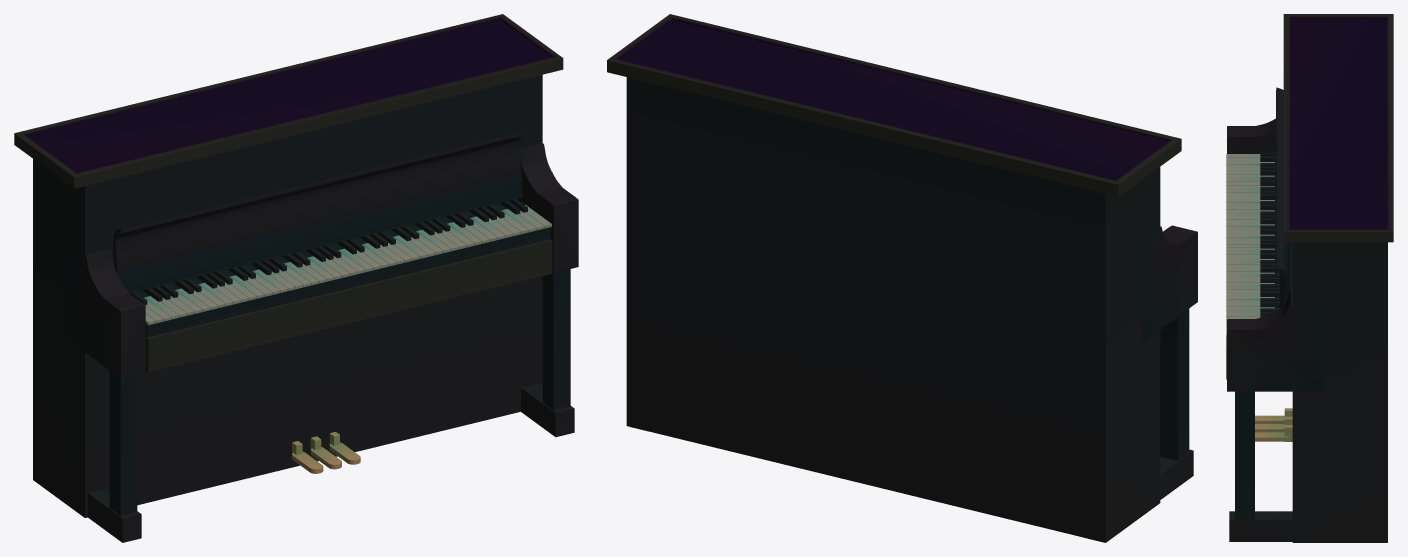
3 renders of one model, left to right at view 1: azimuth 30°, elevation 25°; view 2: azimuth 150°, elevation 25°; view 3: azimuth 270°, elevation 25°, orthographic. The views are drawn at different scales.
Visible parts, largest first — view 1: case, lid, curved_front, keyboard_apron, curved_cheek.001, keybed, curved_cheek, front_support.003, front_support, foot.003, foot; view 2: case, lid, curved_cheek.001, front_support.003, foot.003; view 3: case, lid, curved_cheek, front_support, curved_front, foot, curved_cheek.001, pedal.003, pedal.001, pedal.002.
Boxes of the visible parts, x1=… form: case: x1=33, y1=74, x2=542, y2=517; lid: x1=14, y1=14, x2=563, y2=188; curved_front: x1=113, y1=130, x2=524, y2=292; keyboard_apron: x1=145, y1=239, x2=552, y2=372; curved_cheek.001: x1=68, y1=243, x2=145, y2=378; keybed: x1=137, y1=203, x2=550, y2=337; curved_cheek: x1=518, y1=143, x2=578, y2=272; front_support.003: x1=109, y1=371, x2=137, y2=516; front_support: x1=542, y1=269, x2=570, y2=410; foot.003: x1=88, y1=489, x2=141, y2=542; foot: x1=521, y1=383, x2=574, y2=437; case: x1=626, y1=77, x2=1160, y2=542; lid: x1=607, y1=14, x2=1181, y2=196; curved_cheek.001: x1=1142, y1=225, x2=1197, y2=341; front_support.003: x1=1160, y1=308, x2=1189, y2=460; foot.003: x1=1160, y1=449, x2=1193, y2=499; case: x1=1292, y1=242, x2=1387, y2=542; lid: x1=1283, y1=14, x2=1393, y2=242; curved_cheek: x1=1227, y1=291, x2=1323, y2=391; front_support: x1=1235, y1=391, x2=1254, y2=519; curved_front: x1=1276, y1=87, x2=1289, y2=308; foot: x1=1229, y1=511, x2=1292, y2=541; curved_cheek.001: x1=1227, y1=118, x2=1275, y2=153; pedal.003: x1=1255, y1=432, x2=1290, y2=441; pedal.001: x1=1255, y1=415, x2=1284, y2=423; pedal.002: x1=1255, y1=424, x2=1284, y2=432.
Size of the model in its own units: 1.5 by 1.02 by 0.4869.
